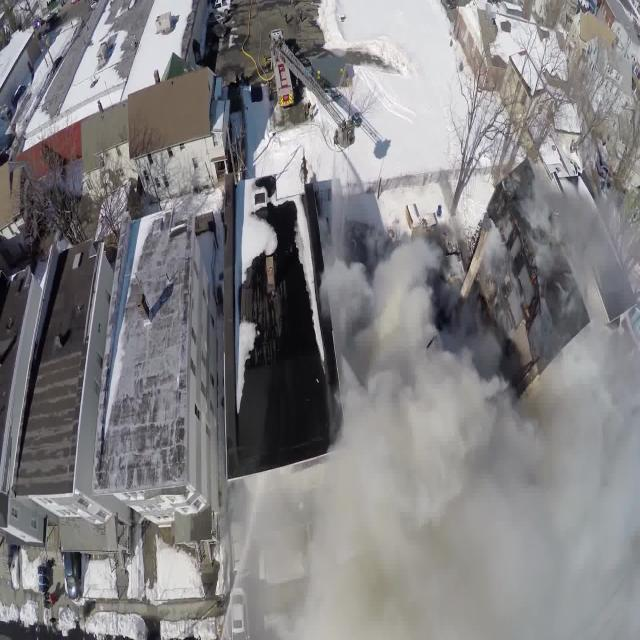Smoke: (221, 239, 640, 640)
